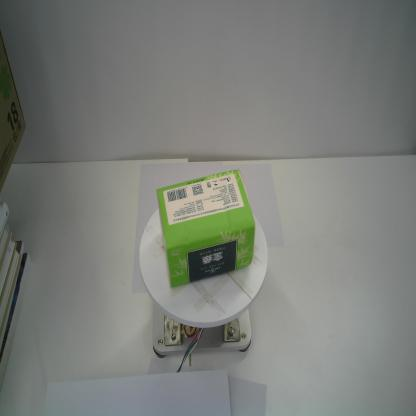Tissue: (157, 168, 254, 289)
